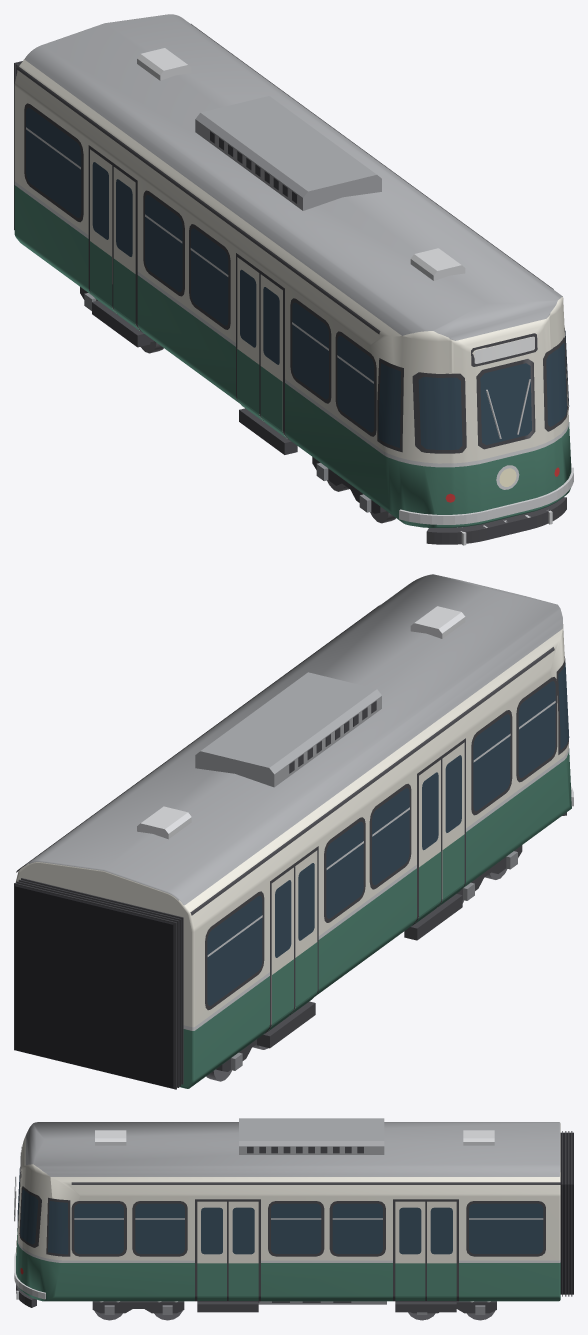
Rendered from 312_close.fbx.
3 views of the same model, one above another, from view 1: azimuth 30°, elevation 25°; view 2: azimuth 150°, elevation 25°; view 3: azimuth 270°, elevation 25° (orthographic). The views are drawn at different scales.
Visible parts, largest first — view 1: 312_close; view 2: 312_close; view 3: 312_close.
Part boxes in pixels (box(x1,y1,x2,y2)): 312_close: box(14, 14, 573, 545); 312_close: box(14, 574, 573, 1089); 312_close: box(14, 1118, 573, 1320).
Size of the model in its own units: 2.54 by 3.37 by 10.03.
